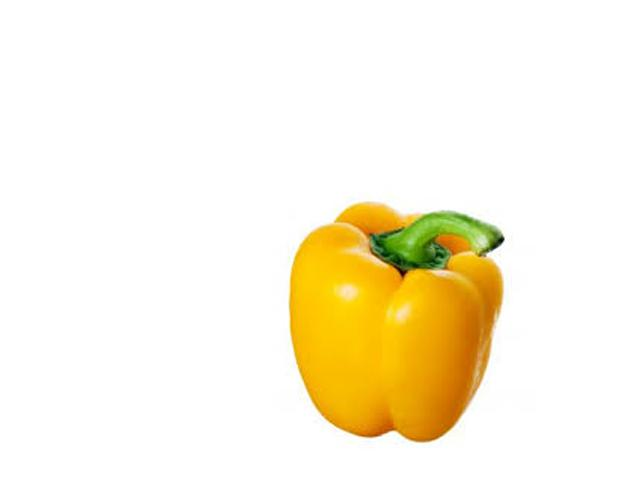bell_pepper: (269, 180, 526, 450)
